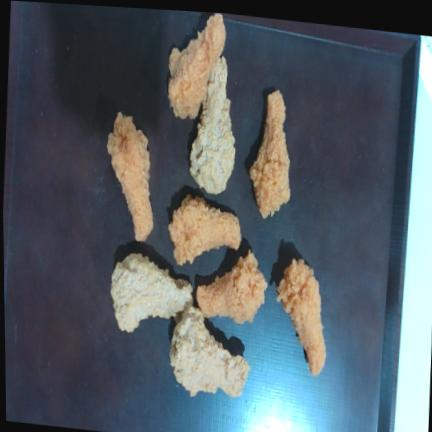chicken: (170, 307, 250, 396), (111, 253, 193, 332), (190, 56, 236, 194), (168, 14, 226, 119), (107, 112, 153, 241), (276, 259, 326, 375), (169, 193, 242, 265), (250, 90, 290, 218), (197, 251, 267, 323)
